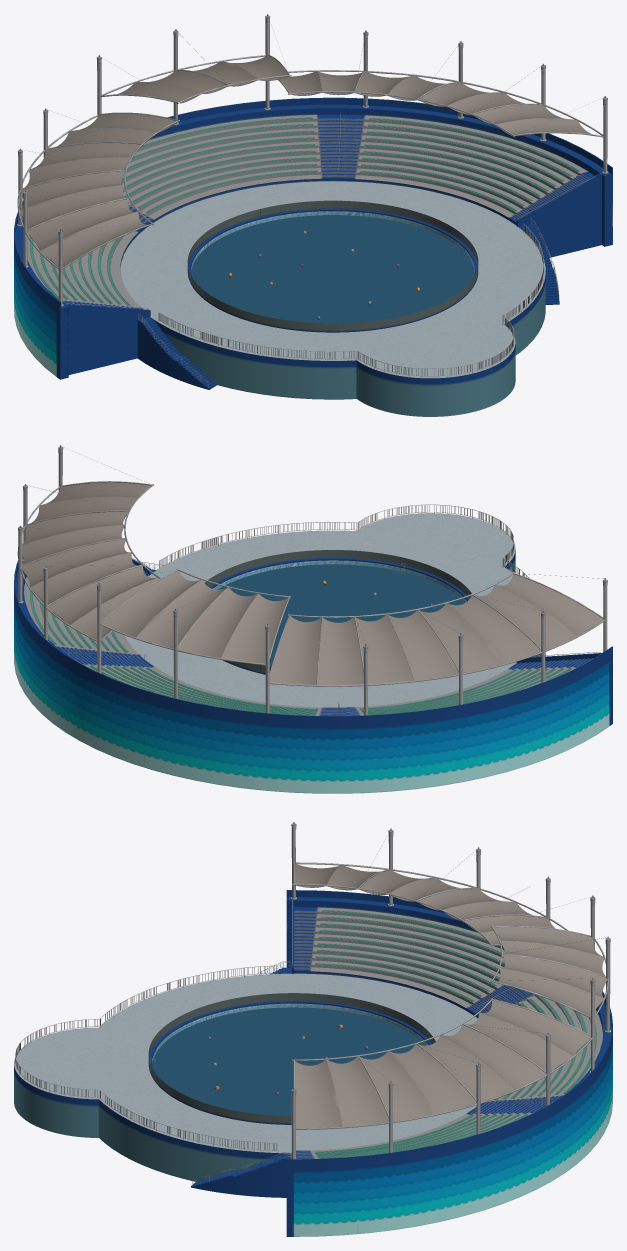
The model's file is DolphinShow_LOD0.fbx.
The picture shows the model from 3 angles, top to bottom: view 1: azimuth 30°, elevation 25°; view 2: azimuth 150°, elevation 25°; view 3: azimuth 270°, elevation 25°; orthographic projection.
Visible parts, largest first — view 1: DolphinShow_Body, Water; view 2: DolphinShow_Body, Water; view 3: DolphinShow_Body, Water.
Boxes of the visible parts, left/top/right/bottom form: DolphinShow_Body: left=14, top=14, right=612, bottom=416; Water: left=191, top=215, right=474, bottom=323; DolphinShow_Body: left=14, top=445, right=612, bottom=793; Water: left=218, top=564, right=464, bottom=666; DolphinShow_Body: left=14, top=822, right=612, bottom=1236; Water: left=152, top=1007, right=425, bottom=1115.
Size of the model in its own units: 3543 by 1013 by 3326.
Materials: 1 (1 with a texture image).
